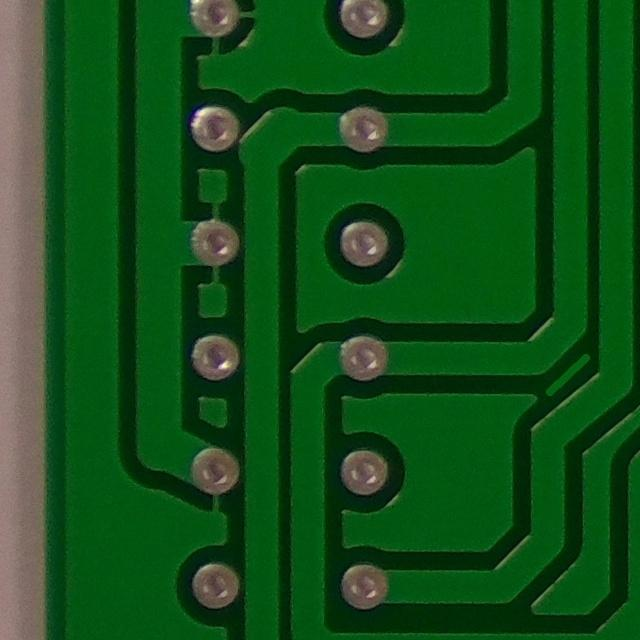spurious_copper: (529, 346, 600, 404)
